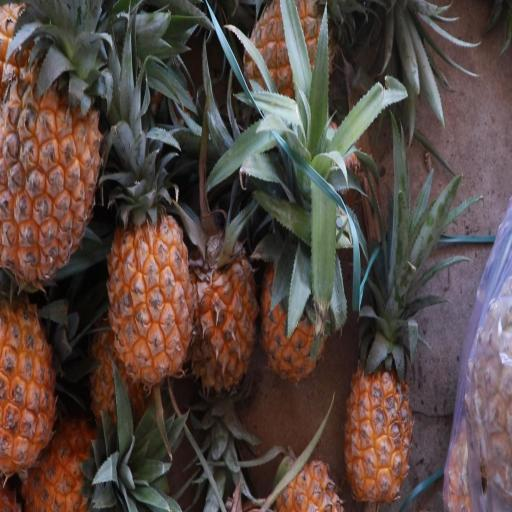Pineapple - v8 v1: (0, 30, 113, 287), (105, 184, 195, 385), (1, 287, 78, 474), (189, 209, 260, 405), (18, 412, 156, 512), (340, 324, 415, 504), (238, 0, 345, 126), (260, 219, 334, 395)
